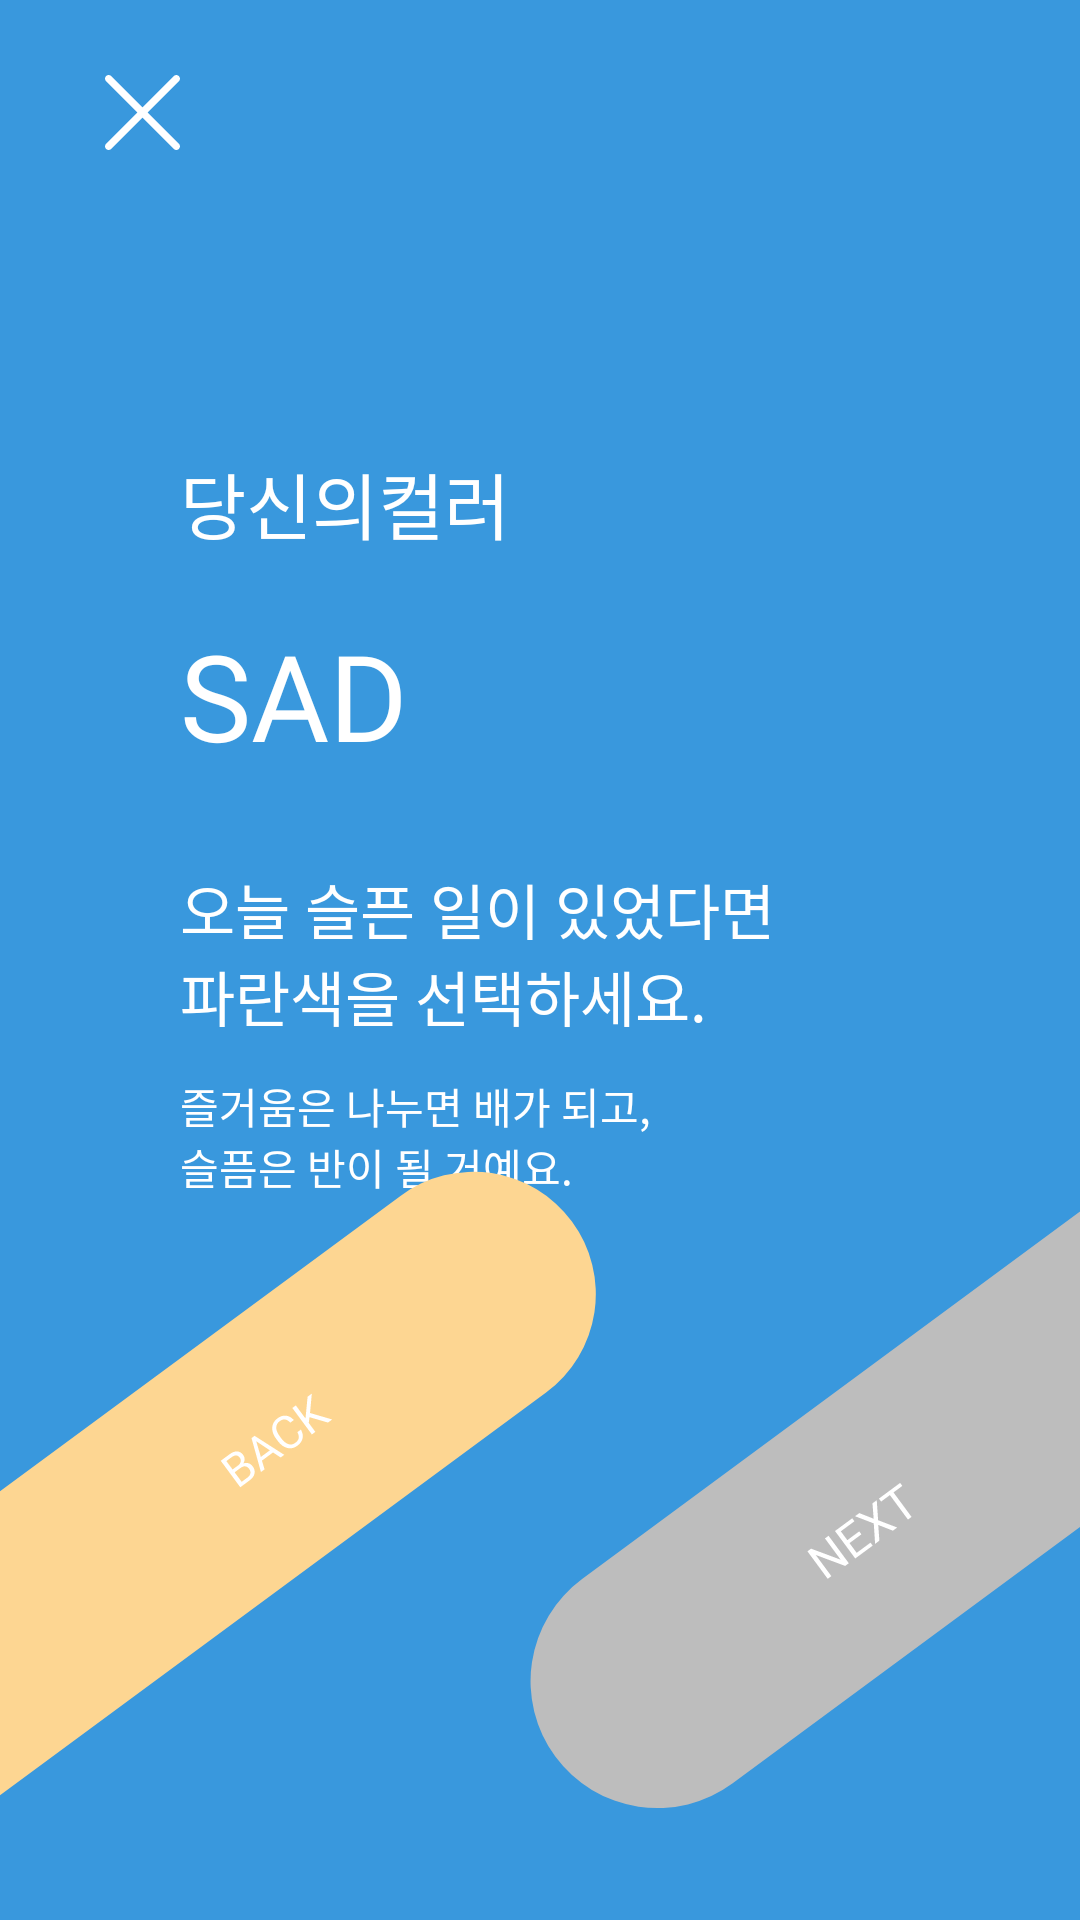

Icon bounding boxes for this 1080 x 1920 phone screenshot, format (x1, y1, x2, y2):
close: (105, 75, 180, 150)
